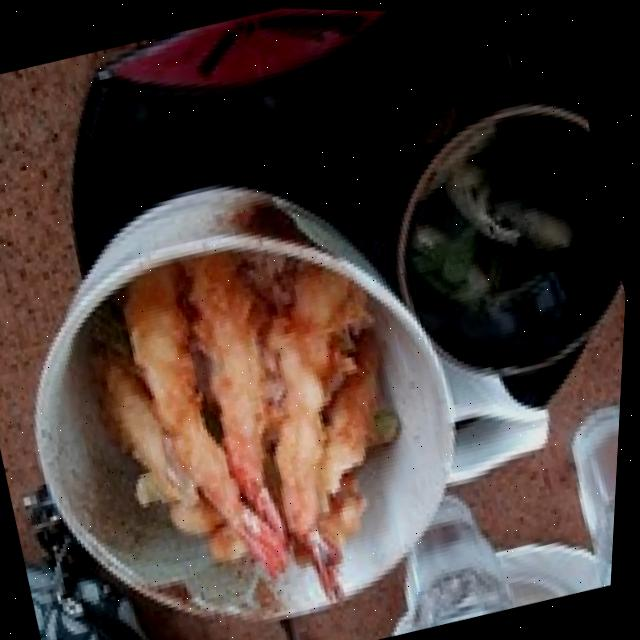汤锅炖物: (361, 90, 637, 405)
熟制海鲜: (0, 177, 515, 640)
